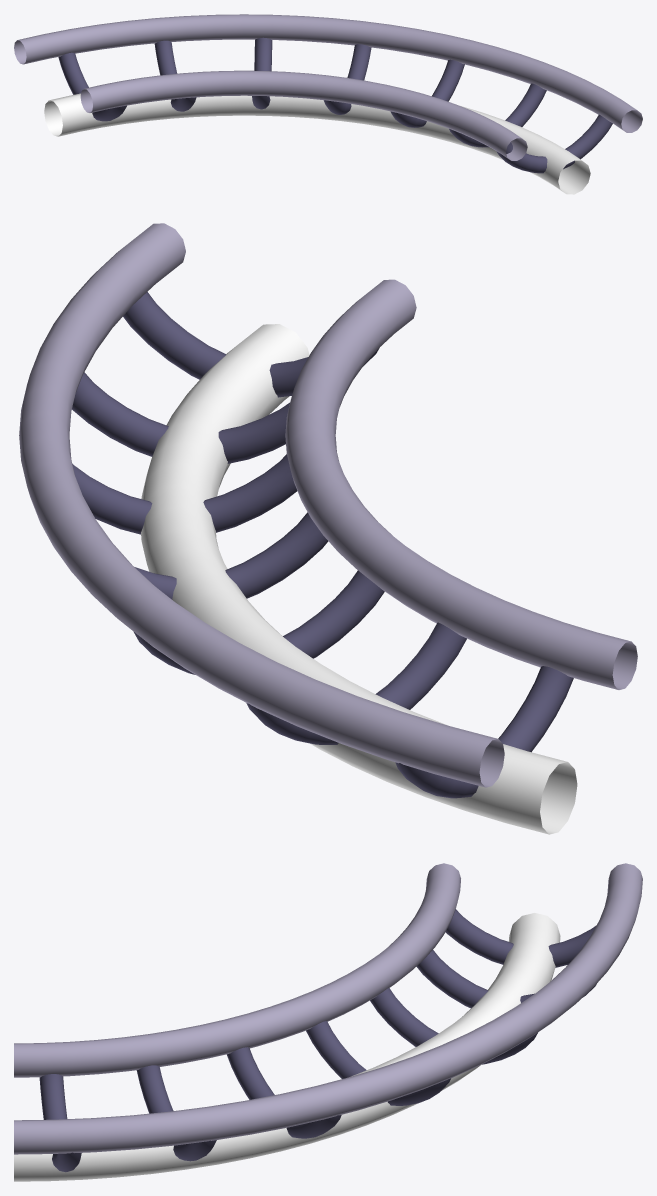
Rendered from rail-curve-left.glb.
3 views of the same model, one above another, from view 1: azimuth 30°, elevation 25°; view 2: azimuth 150°, elevation 25°; view 3: azimuth 270°, elevation 25° (orthographic). The views are drawn at different scales.
Parts seen in each view (by area): view 1: Plane.294_Material.001_0; view 2: Plane.294_Material.001_0; view 3: Plane.294_Material.001_0.
Part boxes in pixels (<box>): Plane.294_Material.001_0: <box>14,14,642,194</box>; Plane.294_Material.001_0: <box>19,223,637,834</box>; Plane.294_Material.001_0: <box>14,863,642,1181</box>.
Size of the model in its own units: 7.97 by 1.34 by 7.97.
1 material, 1 textured.
